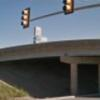traffic lights: (21, 5, 31, 30)
